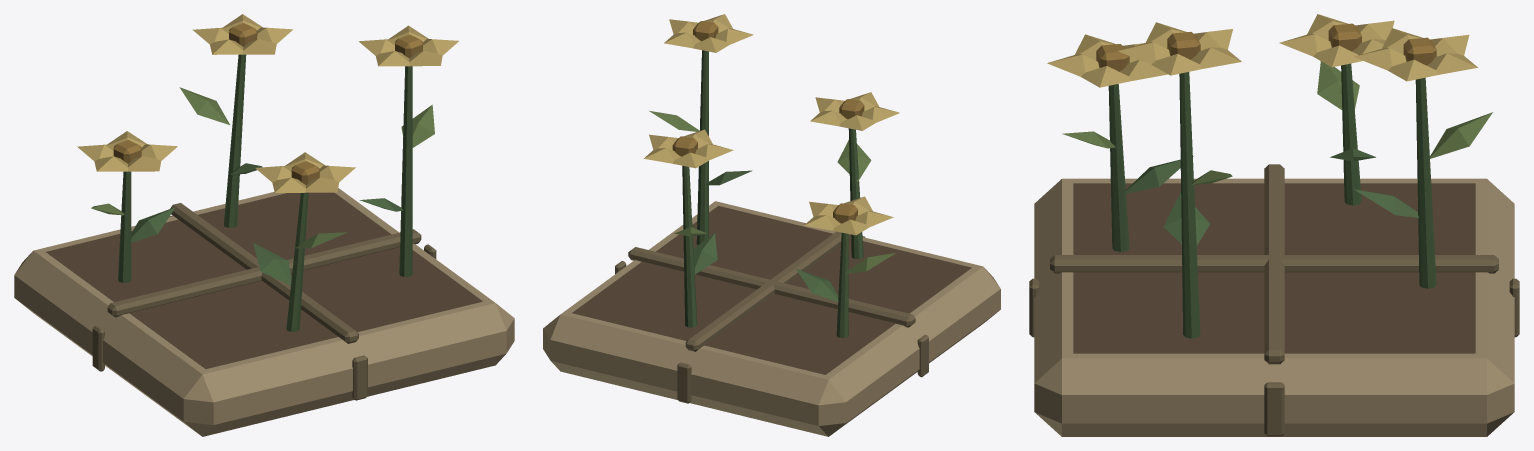
Rendered from flowers_3_packed_summer.glb.
The picture shows the model from 3 angles, left to right: view 1: azimuth 30°, elevation 25°; view 2: azimuth 150°, elevation 25°; view 3: azimuth 270°, elevation 25°; orthographic projection. The views are drawn at different scales.
Parts seen in each view (by area): view 1: flowers_3_packed_summer; view 2: flowers_3_packed_summer; view 3: flowers_3_packed_summer.
Boxes of the visible parts, bbox=[...] form: flowers_3_packed_summer: bbox=[14, 14, 514, 436]; flowers_3_packed_summer: bbox=[543, 14, 1000, 436]; flowers_3_packed_summer: bbox=[1029, 14, 1519, 436].
Bounding box in the file's own units: 1.25 × 1.06 × 1.25.
